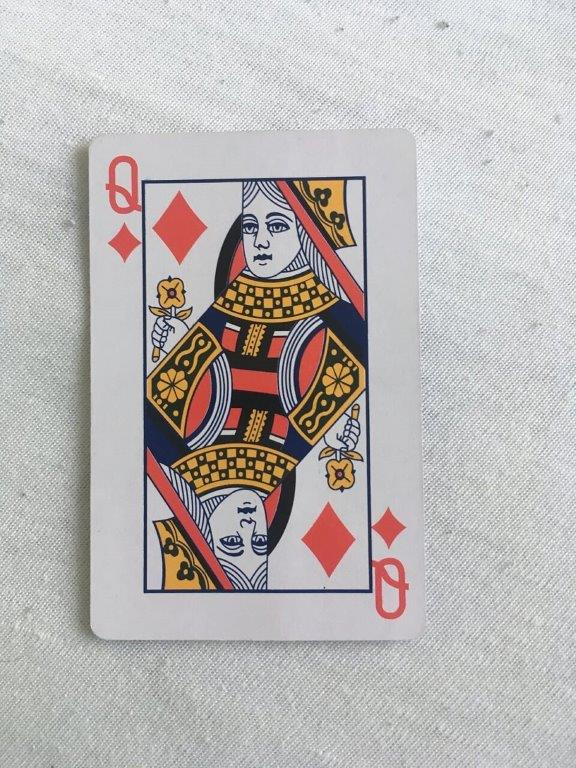QD: (85, 129, 429, 644)
